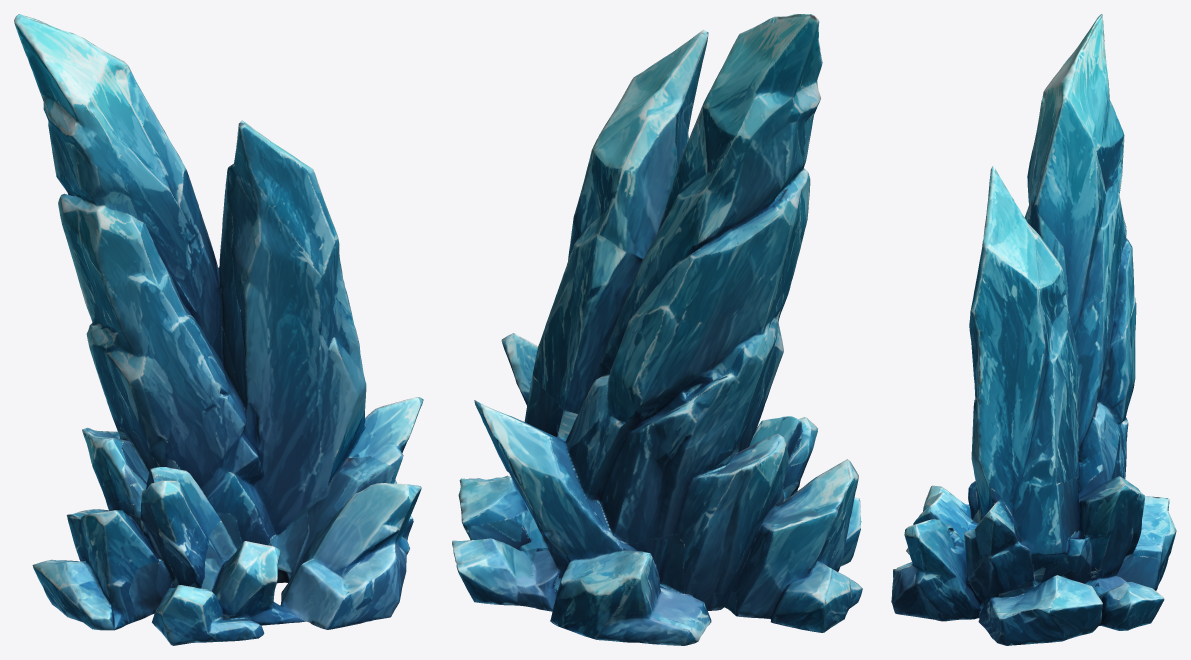
The model's file is IceShard_Spike_B.fbx.
The picture shows the model from 3 angles, left to right: view 1: azimuth 30°, elevation 25°; view 2: azimuth 150°, elevation 25°; view 3: azimuth 270°, elevation 25°; orthographic projection. The views are drawn at different scales.
Parts seen in each view (by area): view 1: texture_mapping; view 2: texture_mapping; view 3: texture_mapping.
Part boxes in pixels (left/top/right/bottom): texture_mapping: left=14, top=14, right=423, bottom=645; texture_mapping: left=452, top=14, right=862, bottom=645; texture_mapping: left=891, top=14, right=1176, bottom=645.
Size of the model in its own units: 0.6356 by 0.5203 by 0.9972.
Materials: 1 (1 with a texture image).
